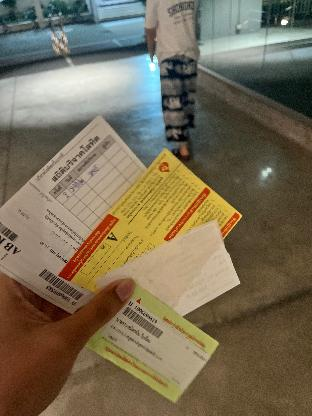Paper: (57, 143, 244, 301), (2, 113, 148, 315), (102, 222, 247, 332), (84, 282, 218, 400)
